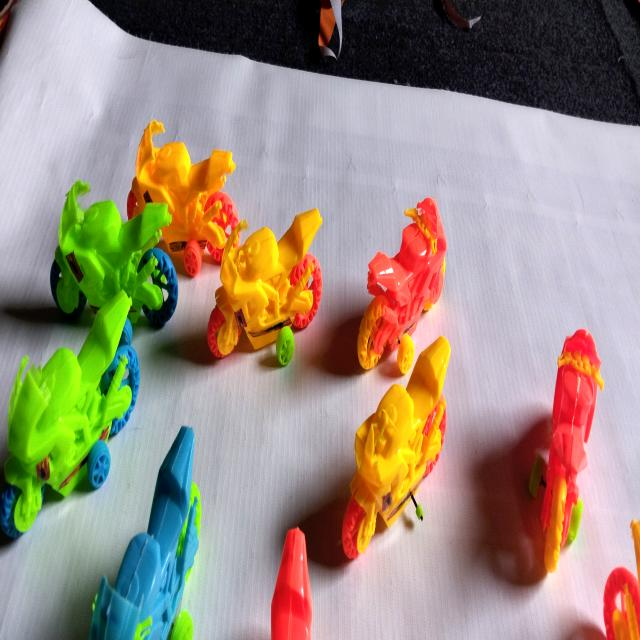bikes: (0, 291, 139, 537), (342, 336, 450, 559), (89, 426, 201, 640), (51, 181, 178, 327), (208, 209, 322, 366), (127, 120, 239, 276), (541, 330, 603, 572), (359, 198, 447, 368)
others: (93, 0, 640, 125), (318, 0, 344, 57), (440, 0, 481, 30)
